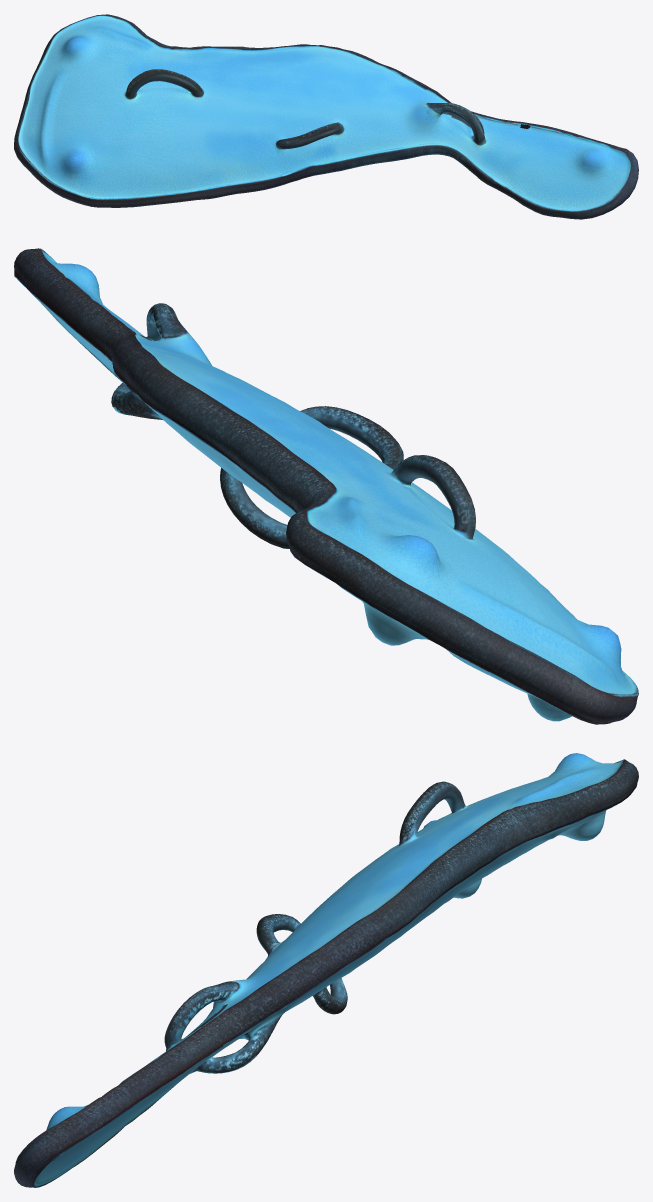
Rendered from cloud-slime.glb.
3 renders of one model, top to bottom at view 1: azimuth 30°, elevation 25°; view 2: azimuth 150°, elevation 25°; view 3: azimuth 270°, elevation 25°, orthographic. The views are drawn at different scales.
Visible parts, largest first — view 1: tripo_node_cfb06803-77cf-4a64-9142-a71ed2daeb29; view 2: tripo_node_cfb06803-77cf-4a64-9142-a71ed2daeb29; view 3: tripo_node_cfb06803-77cf-4a64-9142-a71ed2daeb29.
Part boxes in pixels (x1=…): tripo_node_cfb06803-77cf-4a64-9142-a71ed2daeb29: x1=14, y1=14, x2=638, y2=219; tripo_node_cfb06803-77cf-4a64-9142-a71ed2daeb29: x1=14, y1=248, x2=638, y2=724; tripo_node_cfb06803-77cf-4a64-9142-a71ed2daeb29: x1=14, y1=753, x2=638, y2=1187.
Size of the model in its own units: 0.9772 by 0.27 by 0.7729.
Materials: 1 (1 with a texture image).
